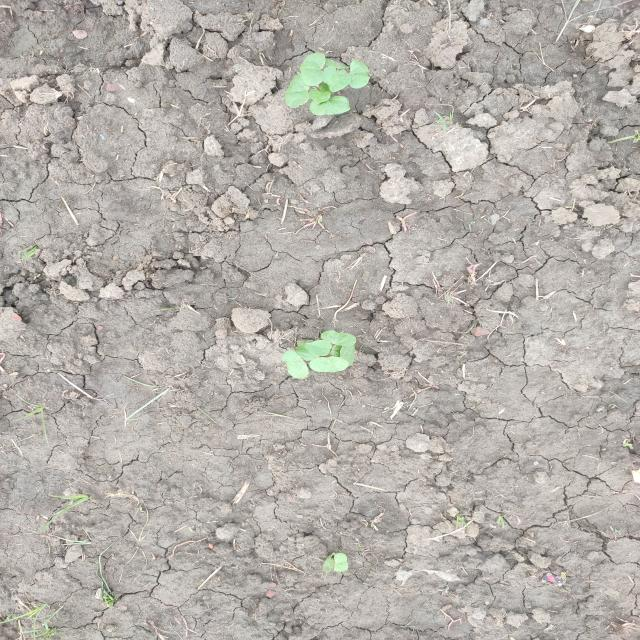seedling: (285, 73, 310, 108), (300, 53, 326, 86), (309, 96, 351, 116), (322, 66, 350, 93), (282, 350, 309, 378), (310, 356, 349, 372), (349, 60, 370, 89), (320, 330, 356, 346), (296, 343, 320, 361), (307, 340, 332, 356), (308, 89, 331, 104), (340, 344, 355, 366), (334, 553, 349, 572), (326, 59, 350, 69), (323, 553, 334, 573), (331, 345, 342, 357)
